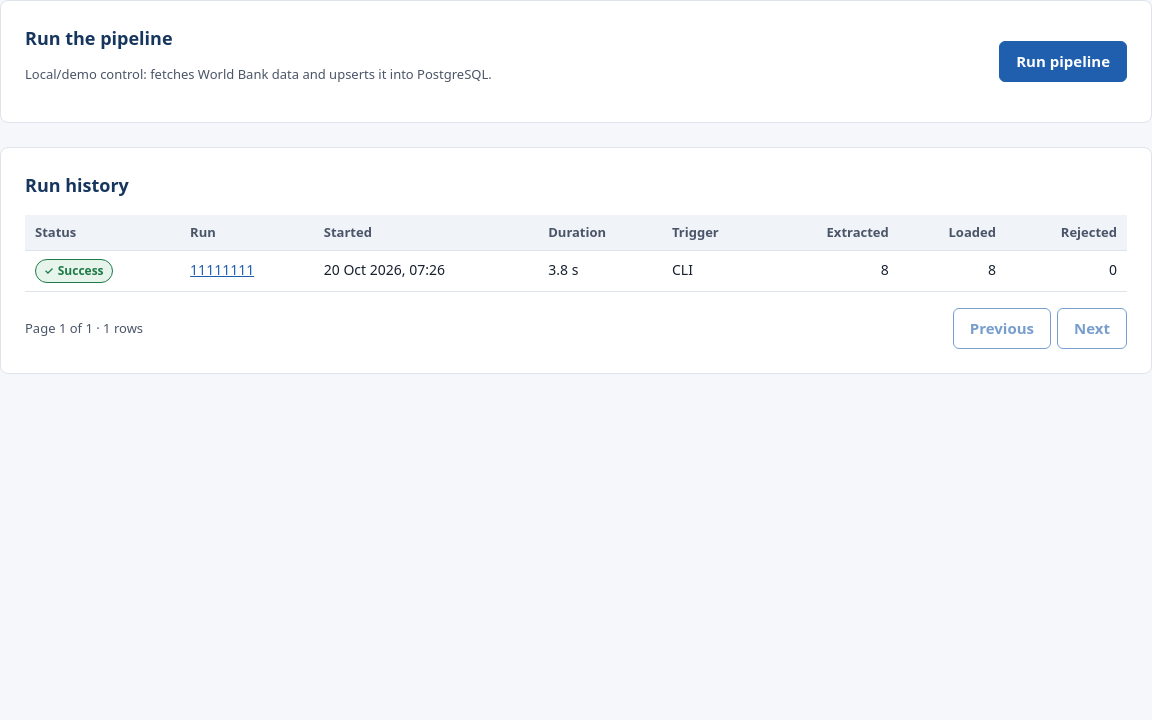
Scenario: RunsPage › does nothing when the confirmation is cancelled
Expected: the heading "Run history" is shown, [25, 172, 129, 196]
Click the button "Run pipeline": point(1063, 61) [999, 41, 1127, 82]
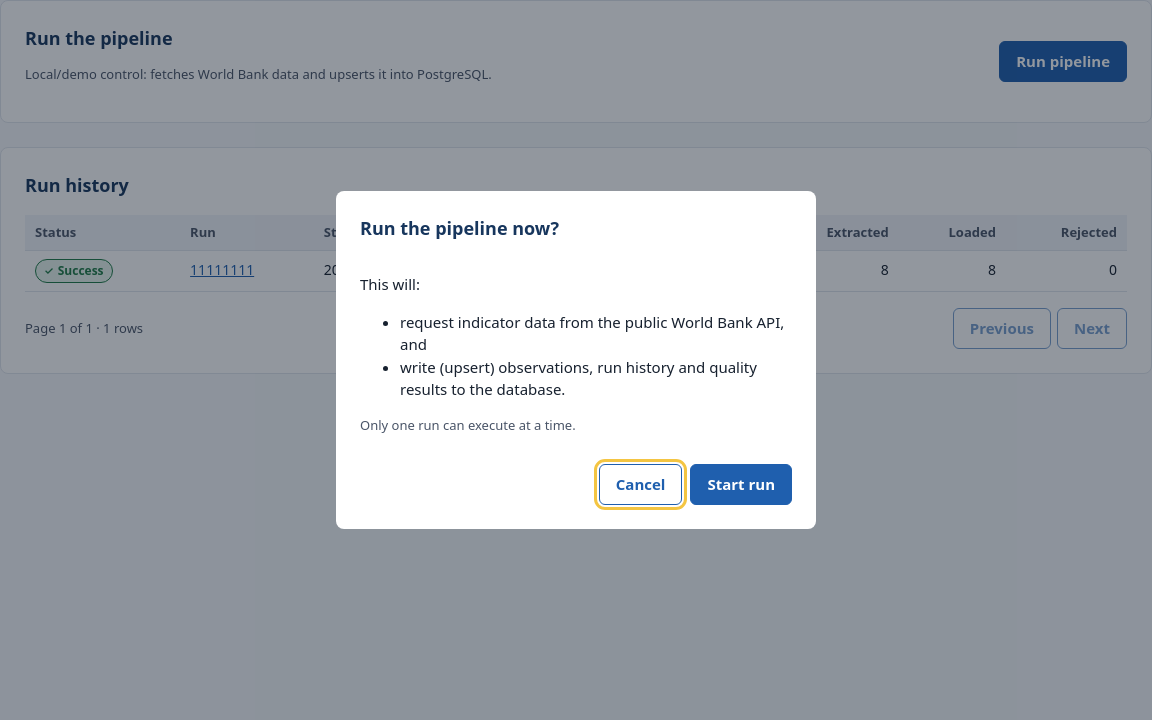
Click the button "Cancel": point(641, 485) [599, 464, 682, 505]
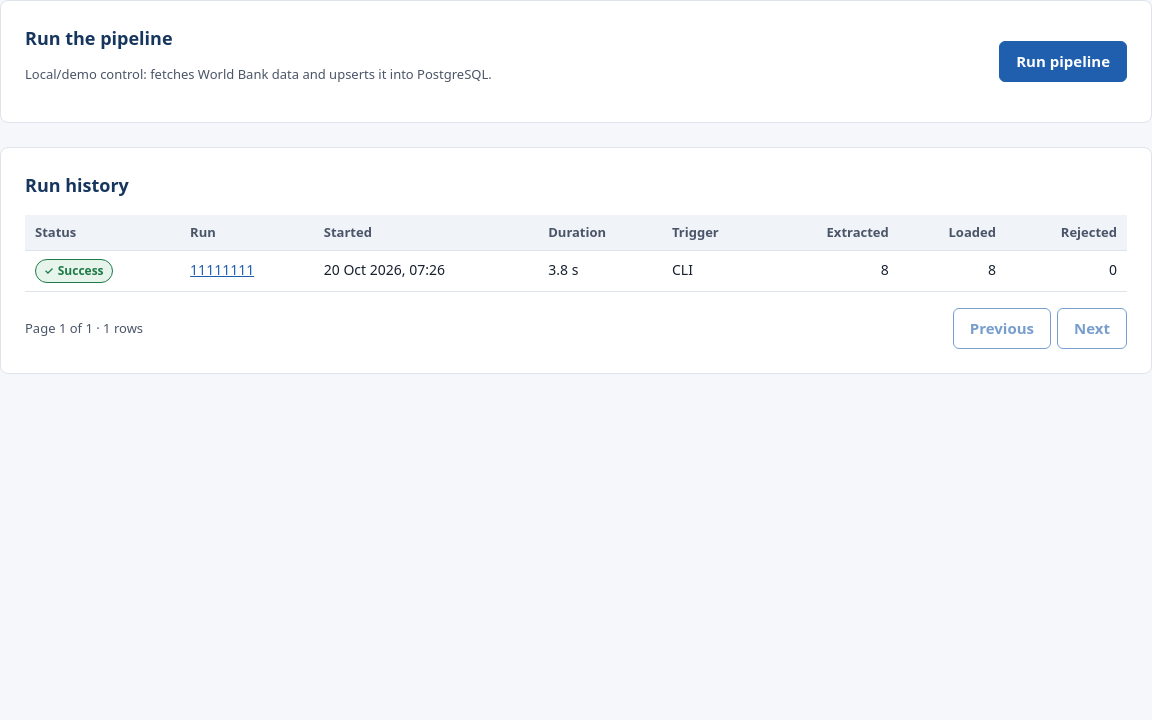
Now the dialog is gone
